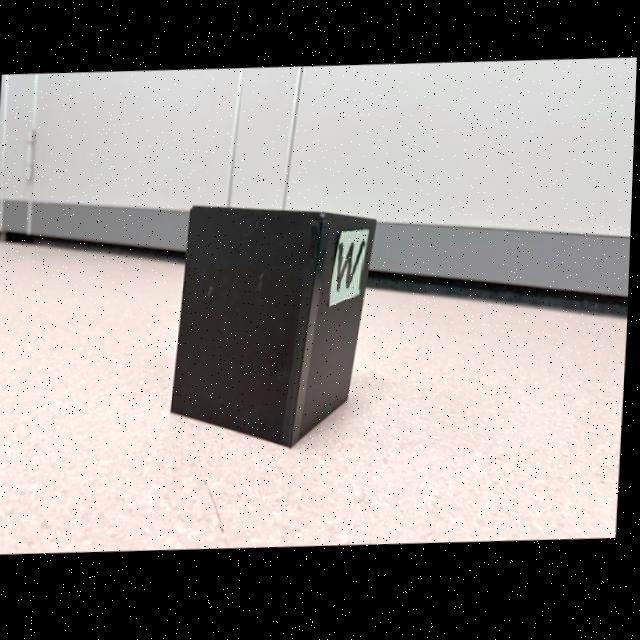W: (339, 244, 366, 293)
